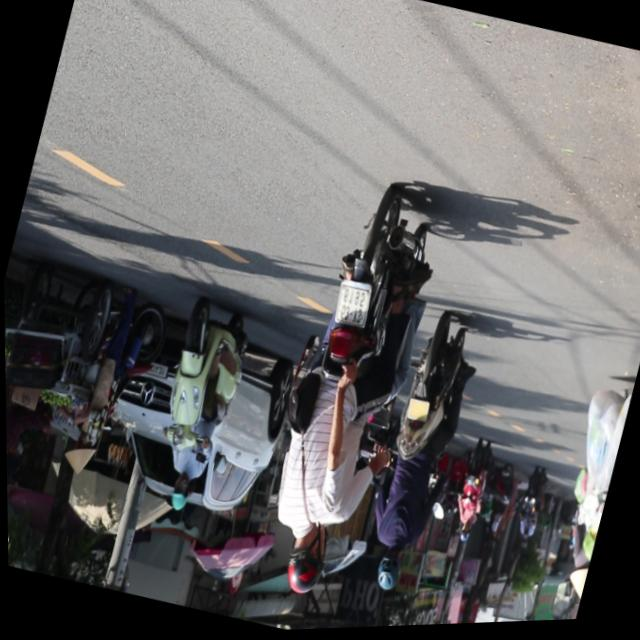helmet: (276, 522, 332, 602), (368, 544, 406, 598), (164, 476, 192, 515)
licenseplate: (235, 175, 457, 616), (347, 313, 488, 607), (135, 294, 261, 524)
nohelmet: (330, 283, 372, 332), (403, 401, 428, 426)
